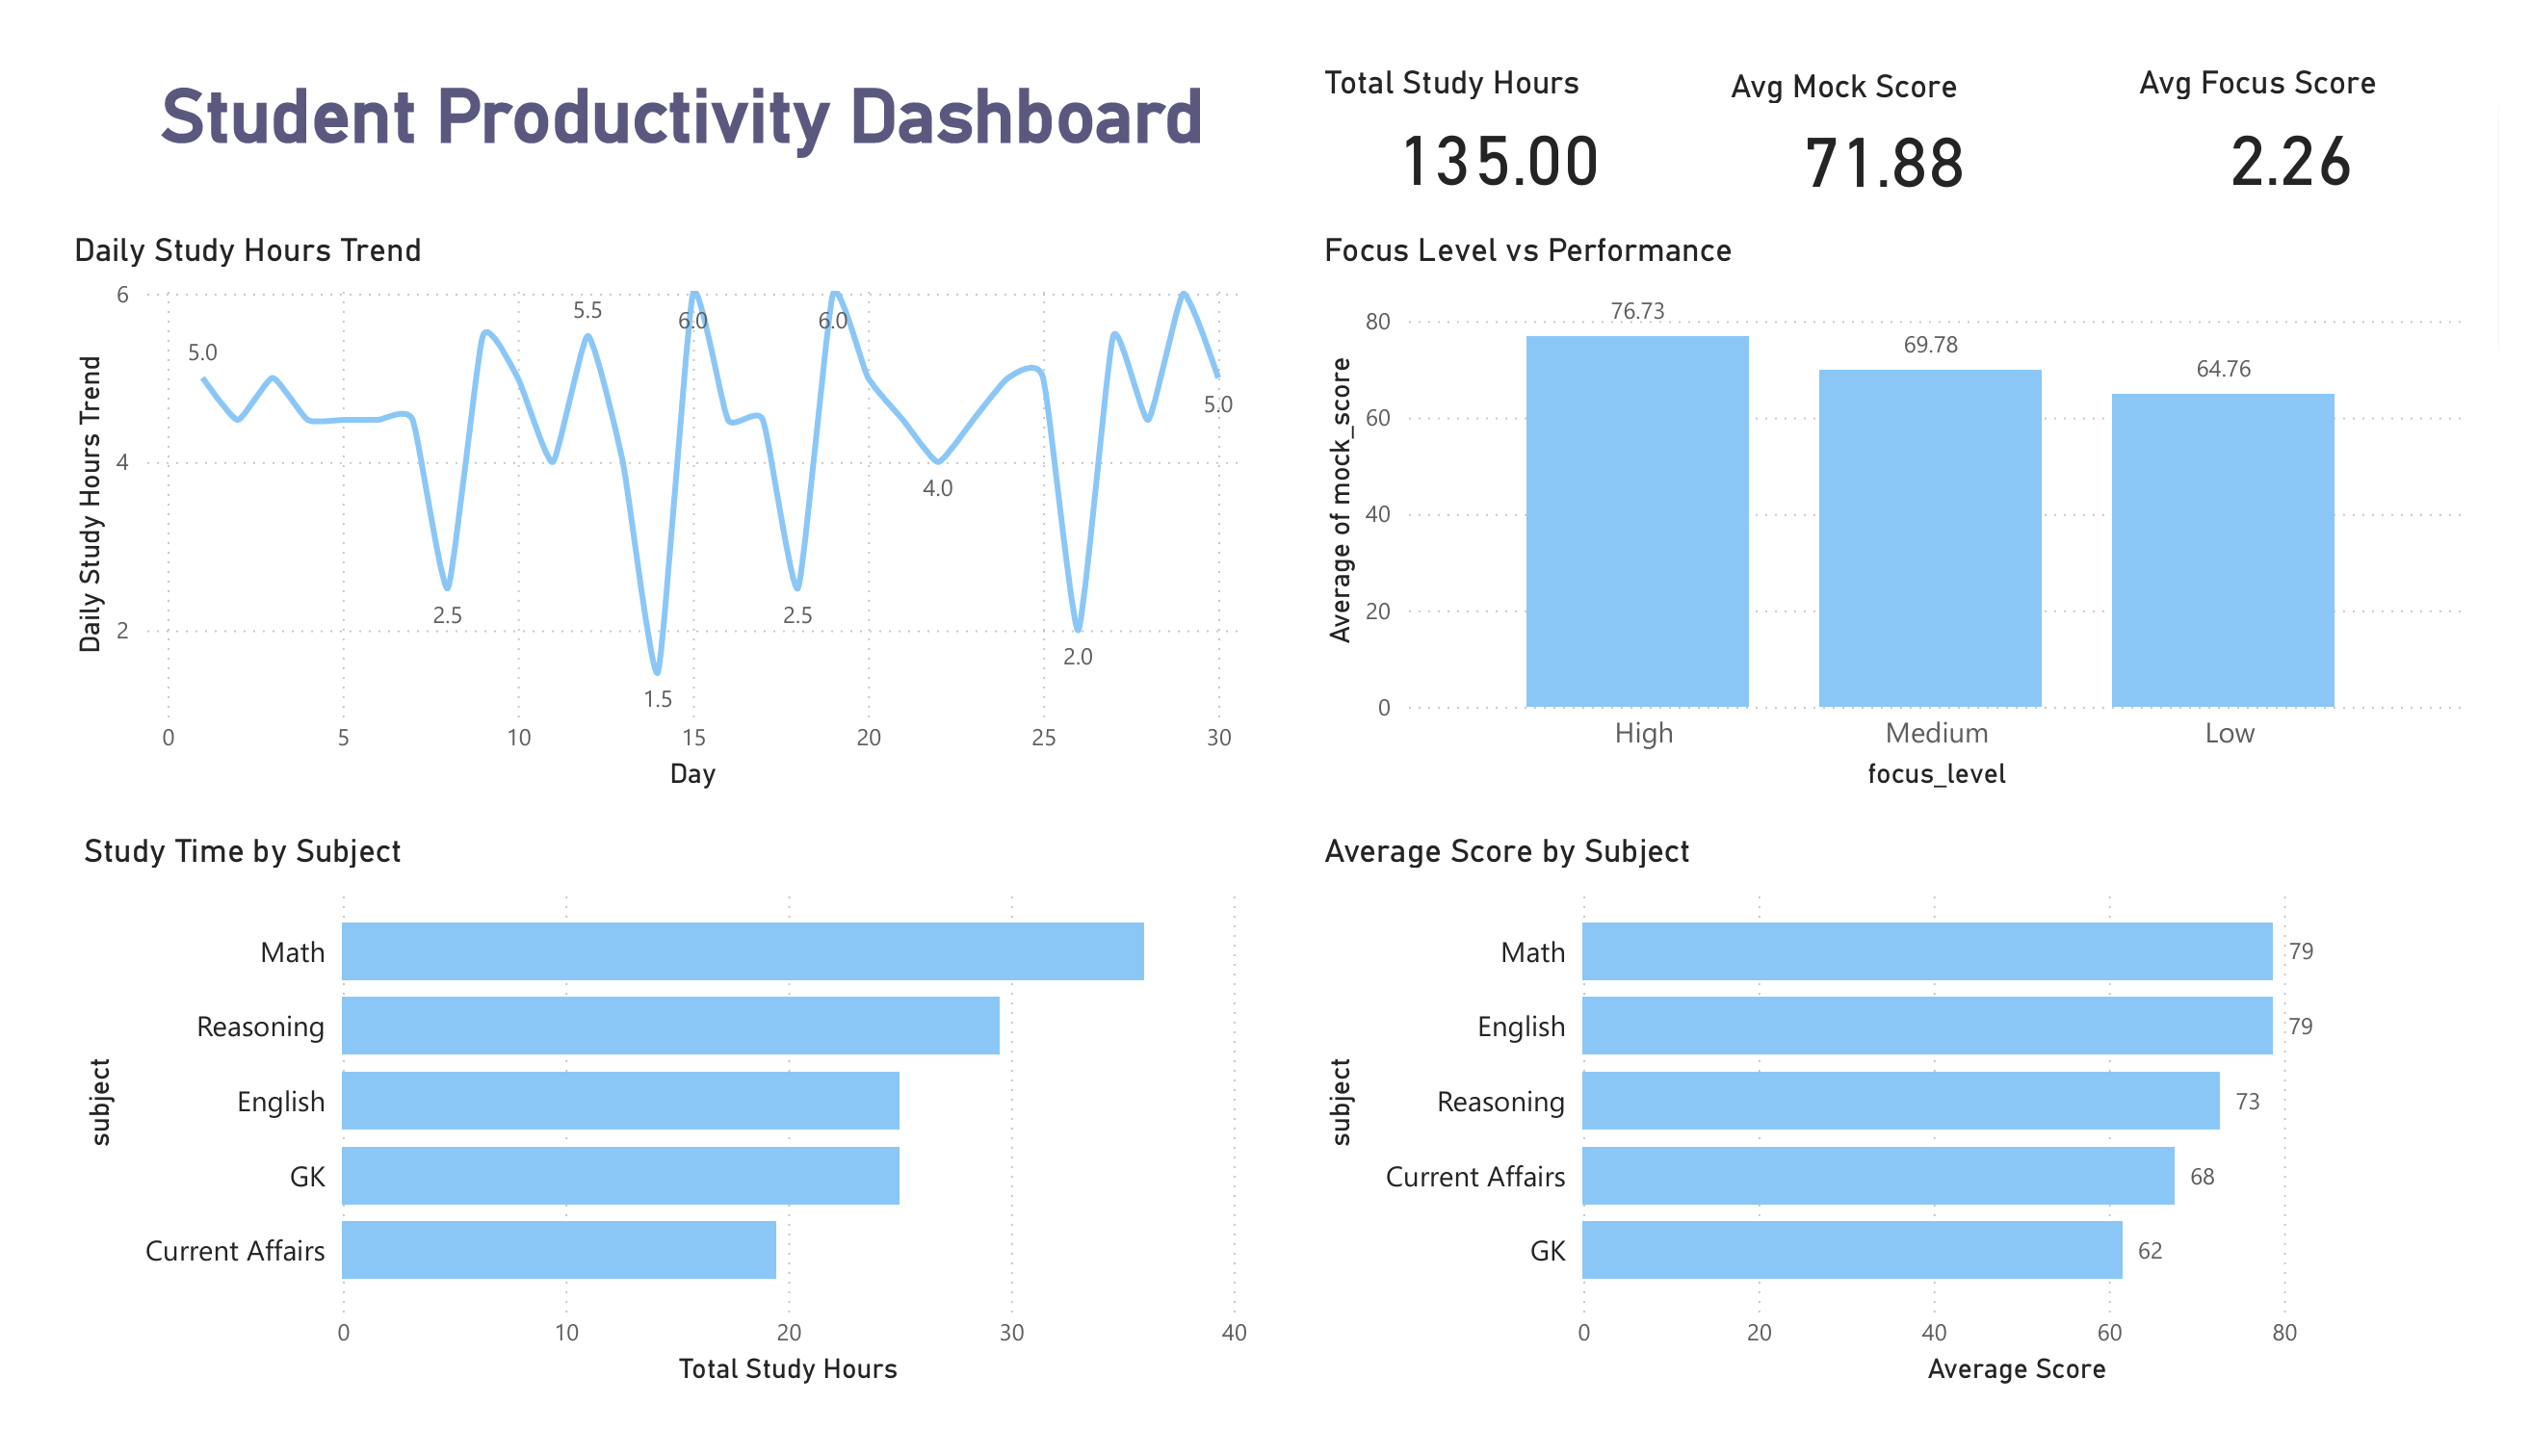

What the dashboard file says about the page in this screenshot:
{"tool":"powerbi","page":{"name":"Page 1","canvas":[1280,720],"ordinal":0},"visuals":[{"type":"lineChart","title":"Daily Study Hours Trend","fields":{"Y":["Sum(public daily_progress.daily_hours)"],"Category":["public daily_progress.date.Variation.Date Hierarchy.Year","public daily_progress.date.Variation.Date Hierarchy.Quarter","public daily_progress.date.Variation.Date Hierarchy.Month","public daily_progress.date.Variation.Date Hierarchy.Day"]},"box":[0,100,635,305],"z":0},{"type":"barChart","title":"Study Time by Subject","fields":{"Y":["Sum(public student_productivity_summary.total_hours)"],"Category":["public student_productivity_summary.subject"]},"box":[0,405,635,315],"z":1000},{"type":"barChart","title":"Average Score by Subject","fields":{"Category":["public student_productivity_summary.subject"],"Y":["Sum(public student_productivity_summary.avg_score)"]},"box":[640,405,640,315],"z":2000},{"type":"columnChart","title":"Focus Level vs Performance","fields":{"Category":["public student_productivity.focus_level"],"Y":["Avg(public student_productivity.mock_score)"]},"box":[635,100,645,305],"z":3000},{"type":"card","title":"Total Study Hours ","fields":{"Values":["Sum(public student_productivity_summary.total_hours)"]},"box":[665,12.5,191.2,76.2],"z":4000},{"type":"card","title":"Avg Mock Score ","fields":{"Values":["Avg(public student_productivity_summary.avg_score)"]},"box":[876.2,15,168.8,73.8],"z":5000},{"type":"card","title":"Avg Focus Score","fields":{"Values":["Avg(public student_productivity_summary.avg_focus)"]},"box":[1087.5,12.5,168.8,76.2],"z":6000},{"type":"textbox","box":[38.8,12.5,596.2,55],"z":7000}]}

Visuals, with their boxes in screenshot pixels (x1, y1, x2, y2), scaled from the page's 1280x720 canvas onto the 2530x1456 screenshot:
"Daily Study Hours Trend" lineChart: crop(0, 202, 1255, 819)
"Study Time by Subject" barChart: crop(0, 819, 1255, 1455)
"Average Score by Subject" barChart: crop(1265, 819, 2529, 1455)
"Focus Level vs Performance" columnChart: crop(1255, 202, 2529, 819)
"Total Study Hours " card: crop(1315, 25, 1692, 179)
"Avg Mock Score " card: crop(1732, 31, 2066, 179)
"Avg Focus Score" card: crop(2150, 25, 2483, 179)
textbox: crop(77, 25, 1255, 137)
